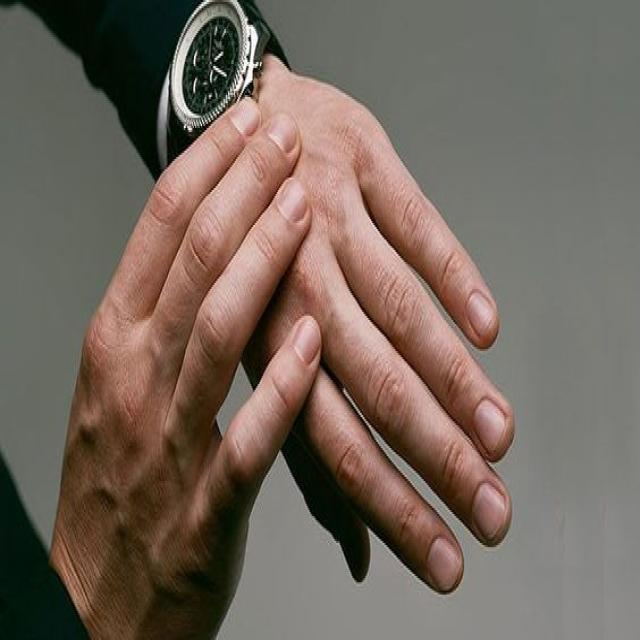Fingernail: (473, 485, 505, 540), (429, 539, 460, 591), (475, 401, 505, 454), (278, 179, 307, 222), (294, 318, 319, 362), (268, 115, 296, 152), (469, 293, 494, 334), (231, 101, 259, 134)
